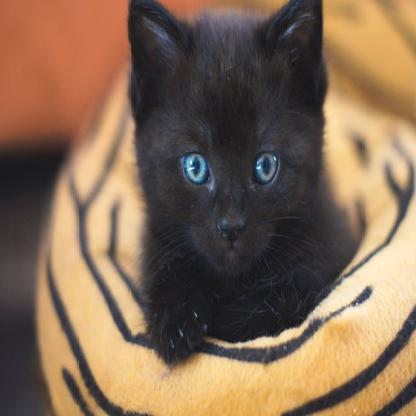cat: (124, 0, 340, 364)
